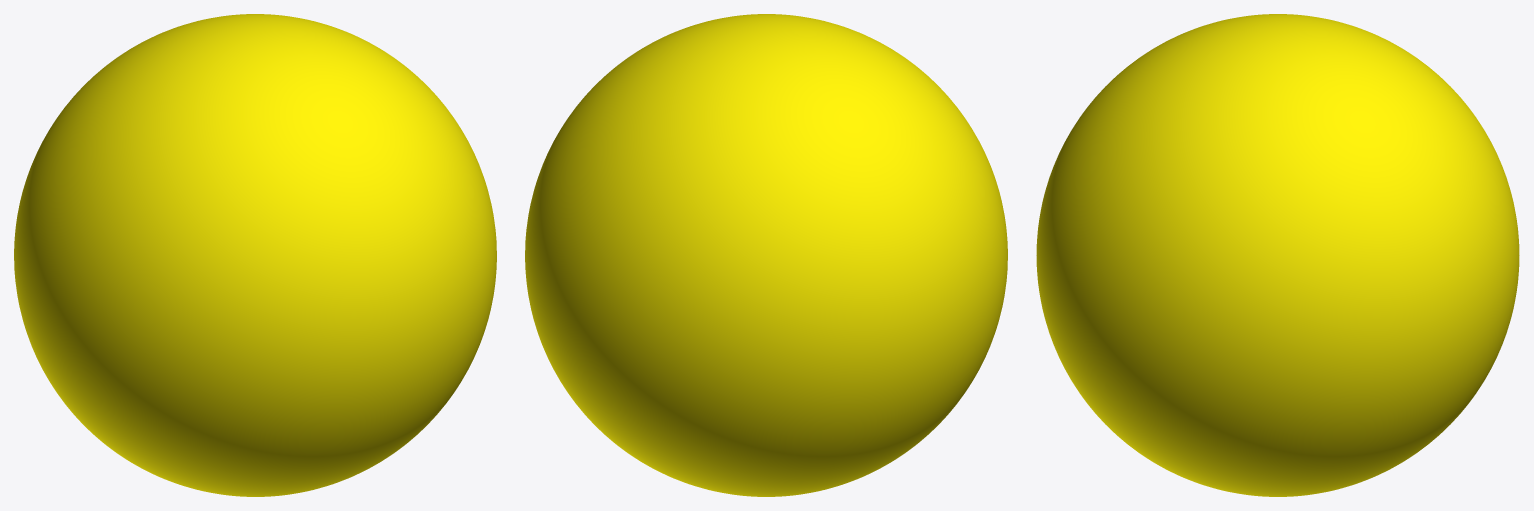
Rendered from lamp.obj.
3 views of the same model, side by side, from view 1: azimuth 30°, elevation 25°; view 2: azimuth 150°, elevation 25°; view 3: azimuth 270°, elevation 25° (orthographic).
Parts seen in each view (by area): view 1: Sphere; view 2: Sphere; view 3: Sphere.
Boxes of the visible parts, x1,y1,x2,y2 form: Sphere: (14,14,496,496); Sphere: (525,14,1007,496); Sphere: (1036,14,1519,496).
Size of the model in its own units: 2 by 2 by 2.
1 material, 1 textured.
